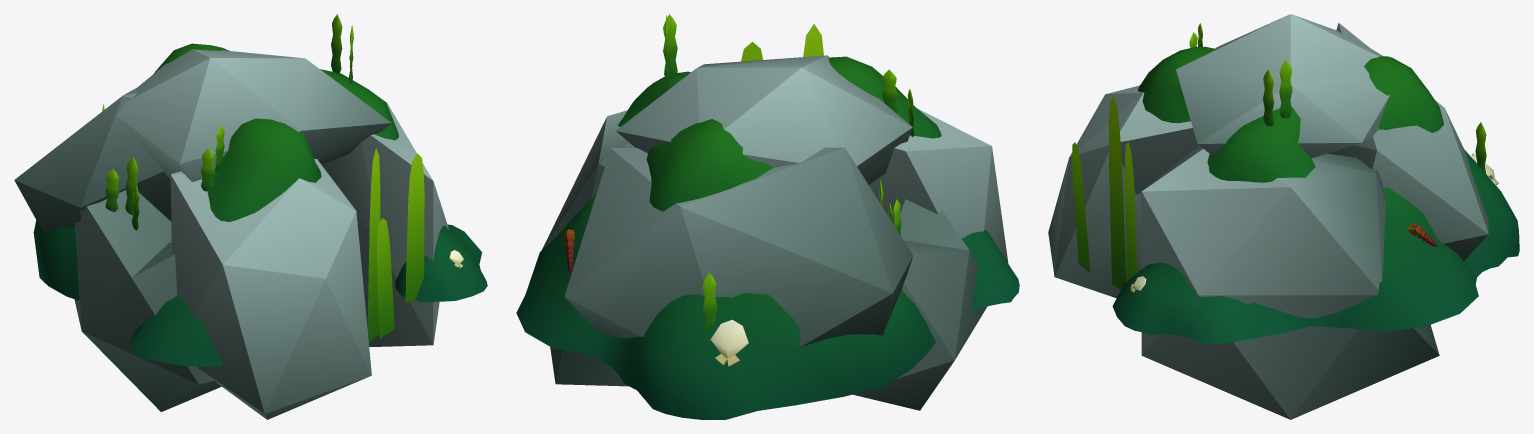
Rendered from House_rock_a.fbx.
3 renders of one model, left to right at view 1: azimuth 30°, elevation 25°; view 2: azimuth 150°, elevation 25°; view 3: azimuth 270°, elevation 25°, orthographic. The views are drawn at different scales.
Parts seen in each view (by area): view 1: Rock, Moss, door, Seaweed_6, Seaweed_2, Seaweed_3, Seaweed; view 2: Rock, Moss, Shell, door, Seaweed_7, Seaweed_5, Seaweed_4; view 3: Rock, Moss, door, Seaweed_6, Seaweed_5.
Boxes of the visible parts, bbox=[...] form: Rock: bbox=[14, 49, 448, 419]; Moss: bbox=[33, 43, 487, 366]; door: bbox=[367, 148, 424, 342]; Seaweed_6: bbox=[331, 14, 342, 73]; Seaweed_2: bbox=[125, 157, 138, 214]; Seaweed_3: bbox=[201, 148, 214, 191]; Seaweed: bbox=[105, 169, 118, 211]; Rock: bbox=[537, 55, 1008, 410]; Moss: bbox=[516, 56, 1019, 419]; Shell: bbox=[710, 319, 748, 366]; door: bbox=[741, 24, 823, 61]; Seaweed_7: bbox=[702, 272, 717, 330]; Seaweed_5: bbox=[663, 14, 677, 77]; Seaweed_4: bbox=[882, 69, 897, 113]; Rock: bbox=[1048, 14, 1488, 419]; Moss: bbox=[1112, 46, 1519, 343]; door: bbox=[1072, 95, 1137, 289]; Seaweed_6: bbox=[1279, 60, 1292, 118]; Seaweed_5: bbox=[1263, 69, 1273, 126].
Bounding box in the file's own units: 17.75 × 15.37 × 19.6.
Materials: 1 (1 with a texture image).
